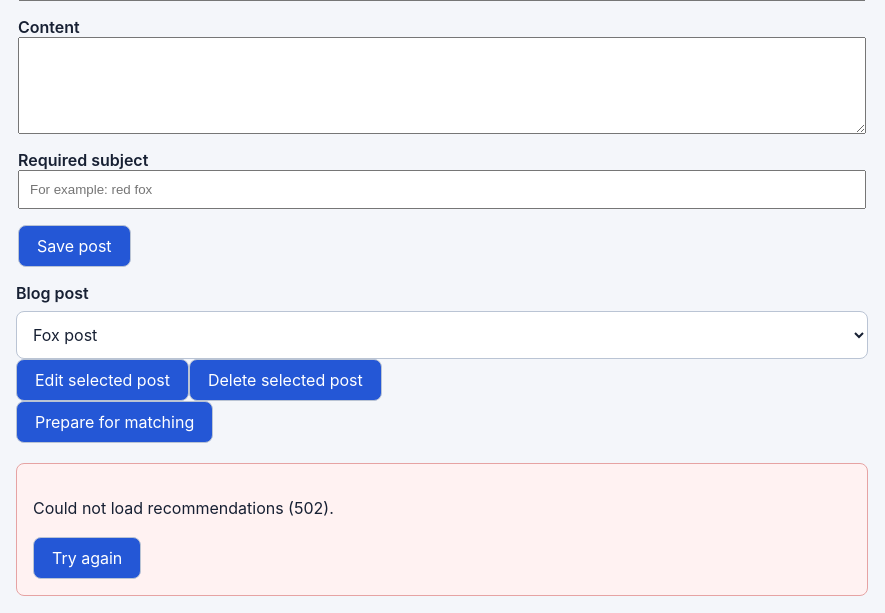
retries a failed recommendation request successfully
This screenshot has width=885, height=613.
(page scrolled)
Check: the message shows "Could not load recommendations (502).", box [33,498,334,518]
Click the button "Try again": click(87, 558) [33,537,141,579]
(page scrolled)
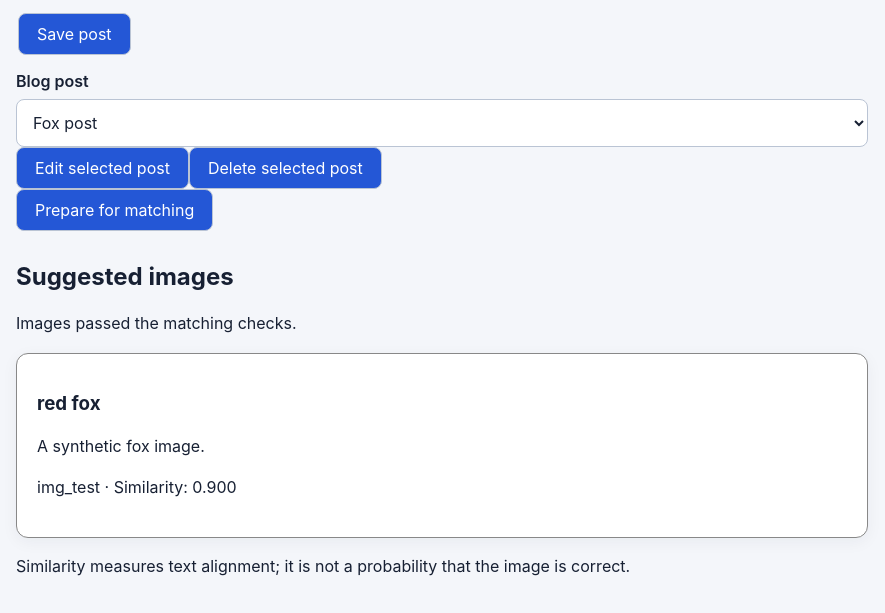
Check: the heading "Suggested images" is shown, box [16,262,234,291]
Check: the text "A synthetic fox image." is shown, box [37,436,205,456]
Check: the message "Could not load recommendations (502). Try again" is gone
